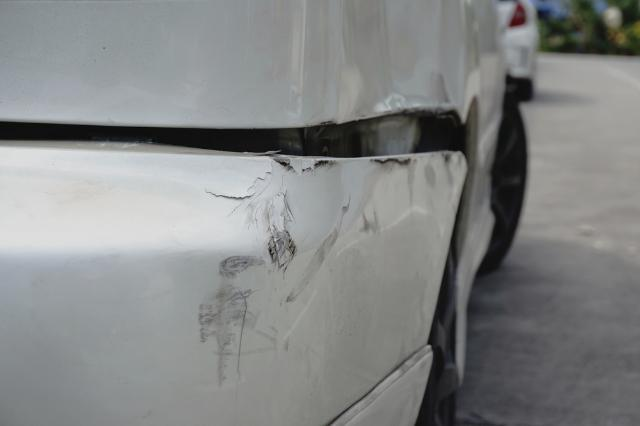scratch: (194, 155, 429, 384)
